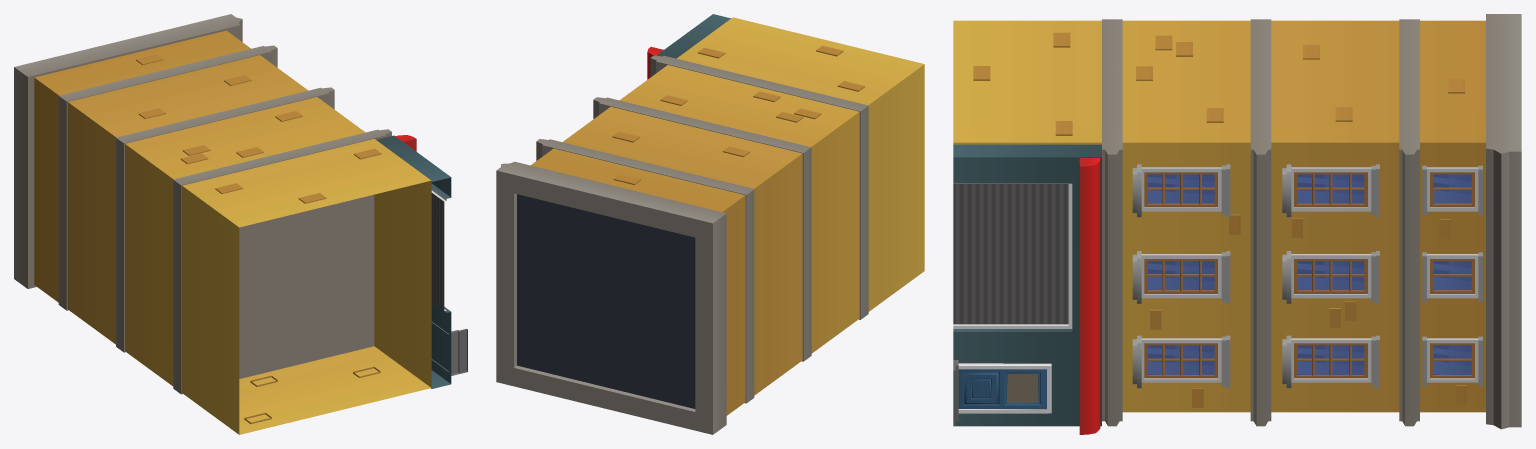
The model's file is Building_19_1_F.fbx.
3 views of the same model, side by side, from view 1: azimuth 30°, elevation 25°; view 2: azimuth 150°, elevation 25°; view 3: azimuth 270°, elevation 25° (orthographic). The views are drawn at different scales.
Parts seen in each view (by area): view 1: Building_19_1_F; view 2: Building_19_1_F; view 3: Building_19_1_F.
Boxes of the visible parts, x1=… form: Building_19_1_F: x1=14, y1=14, x2=467, y2=434; Building_19_1_F: x1=496, y1=14, x2=924, y2=434; Building_19_1_F: x1=953, y1=14, x2=1521, y2=434.
Bounding box in the file's own units: 774 × 667 × 1247.
